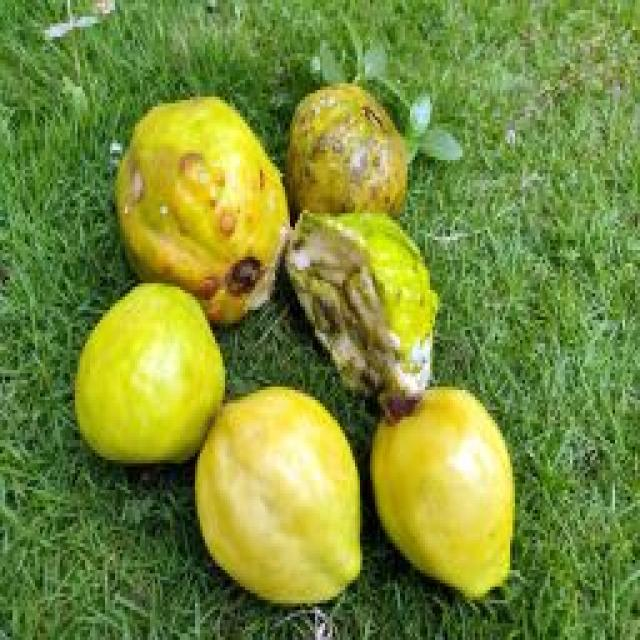Organik: (186, 376, 370, 615), (115, 101, 286, 324), (360, 371, 518, 607), (285, 204, 439, 403), (81, 290, 223, 469), (284, 80, 406, 215)
